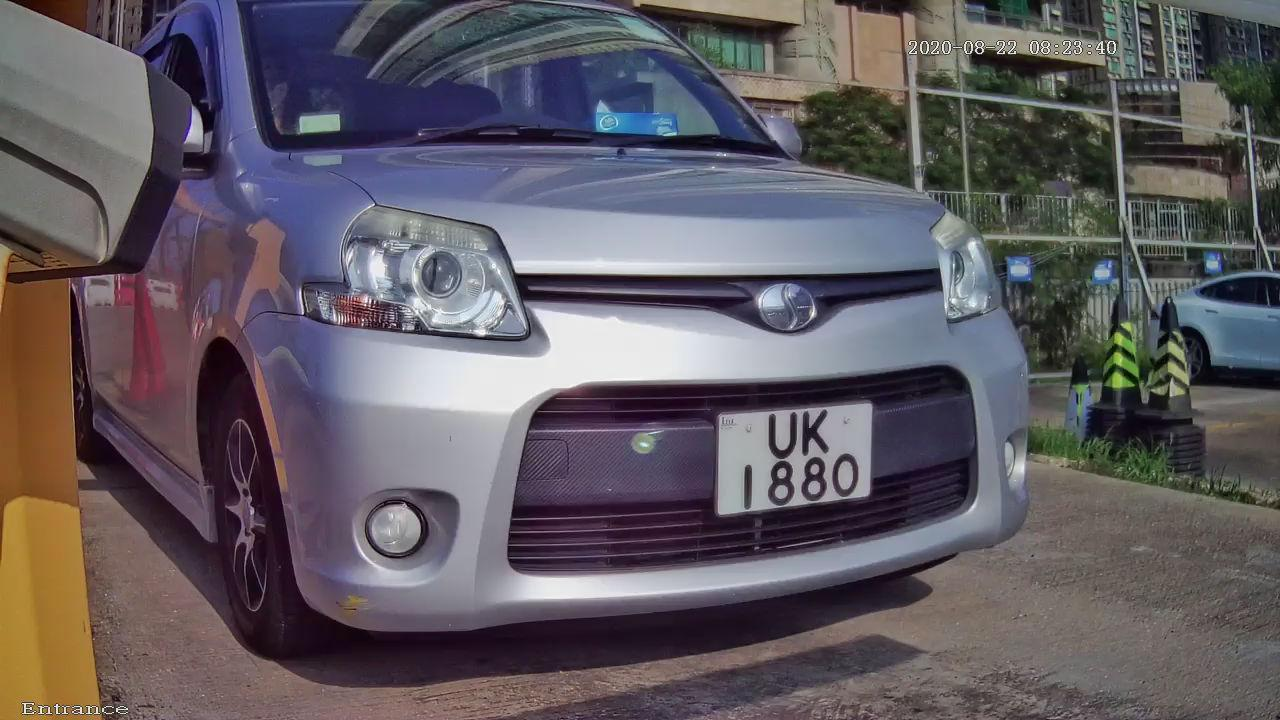License Plate: (703, 393, 892, 528)
